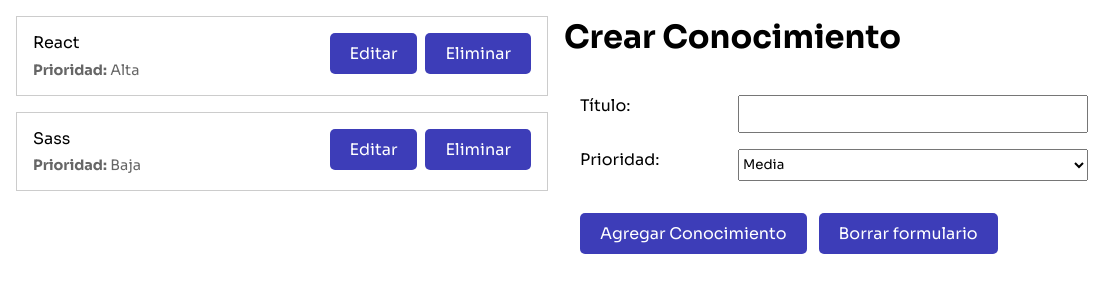
Scenario: <Conocimiento /> › si api.post falla no se pinta Card nueva y avisa del error
Type "TypeScript" into the field labelled "Título:" at (913, 114), box top-left (738, 95), bottom-right (1088, 133)
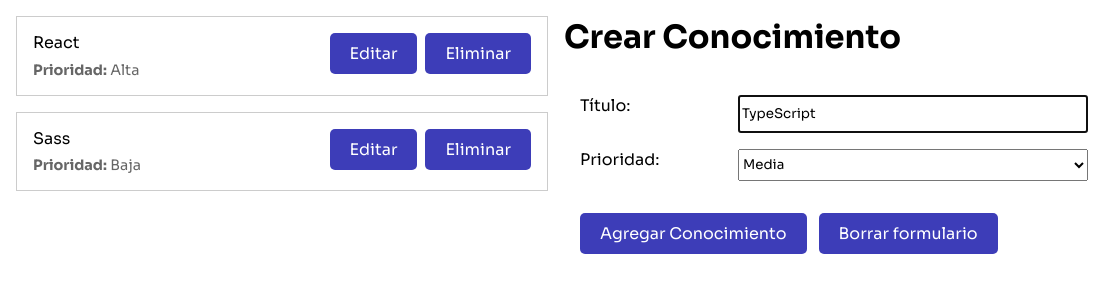
Click the button "Agregar Conocimiento" at (693, 233), box top-left (580, 213), bottom-right (806, 254)
Wait 1000 ms
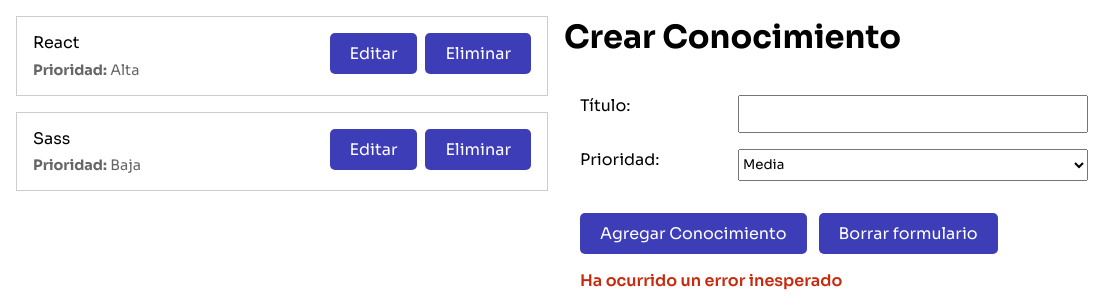
Expected: the text "TypeScript" is not shown
Expected: the text "Ha ocurrido un error inesperado" is shown, top-left (580, 270), bottom-right (842, 291)
